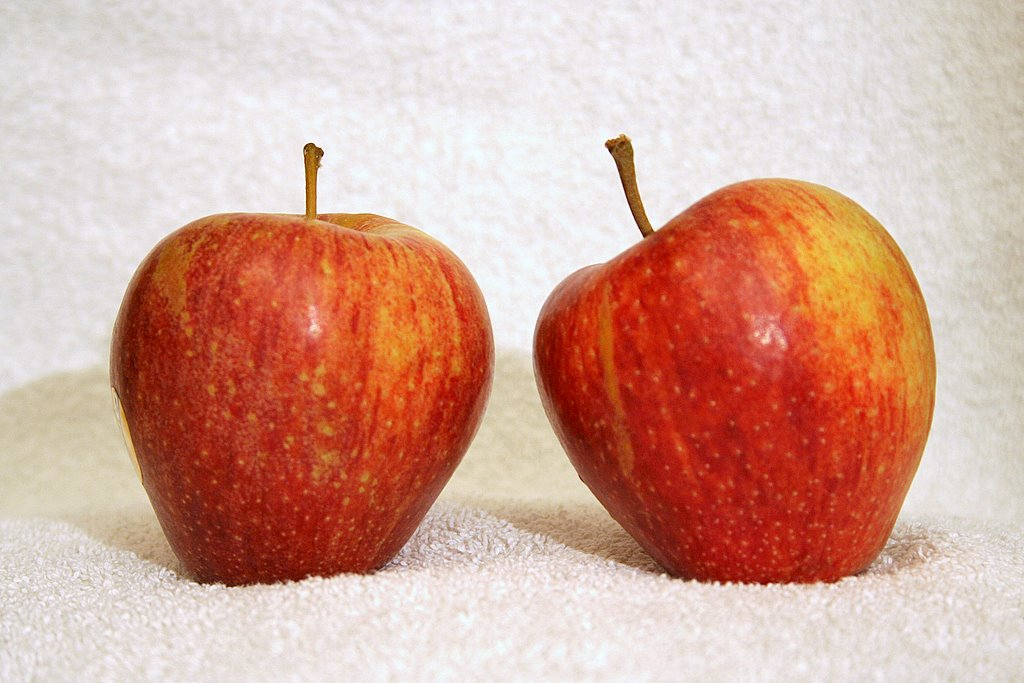apple: (526, 132, 942, 594), (112, 131, 497, 598)
